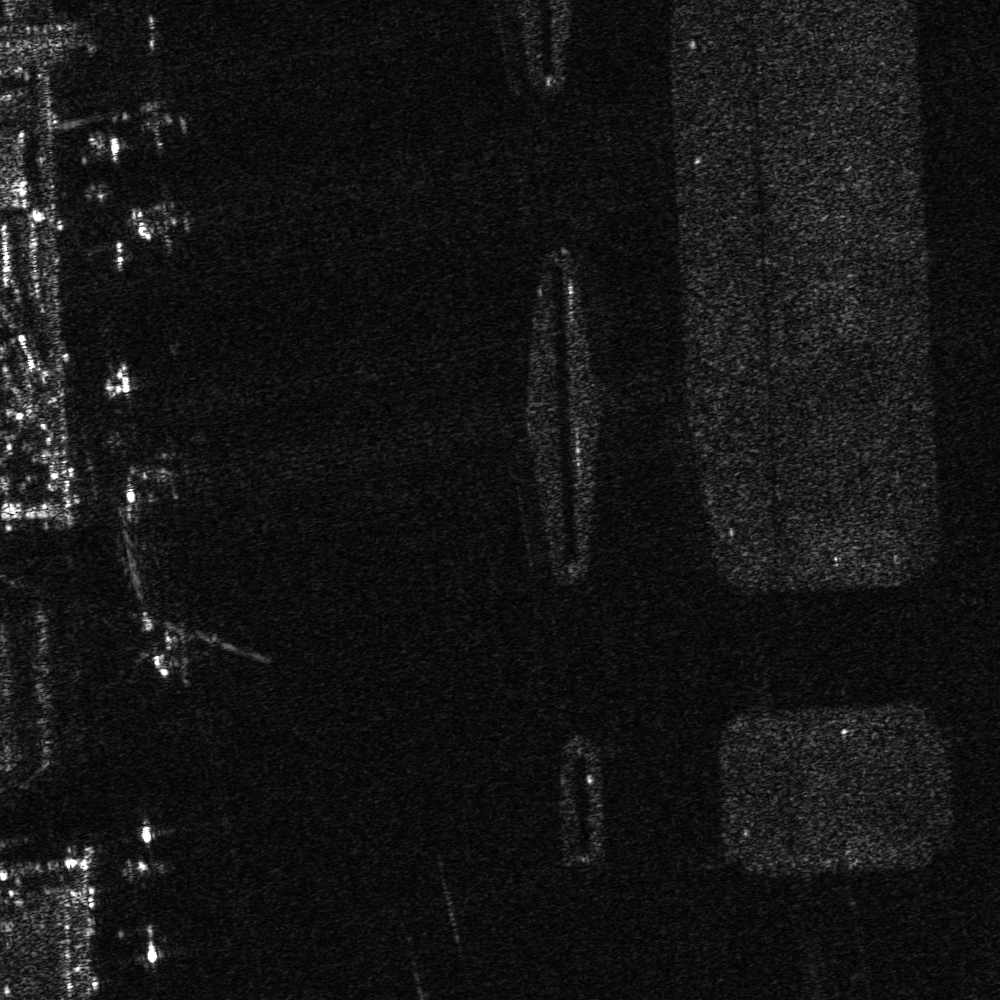A220: (134, 597, 218, 694), (102, 94, 198, 159), (122, 182, 200, 259)
